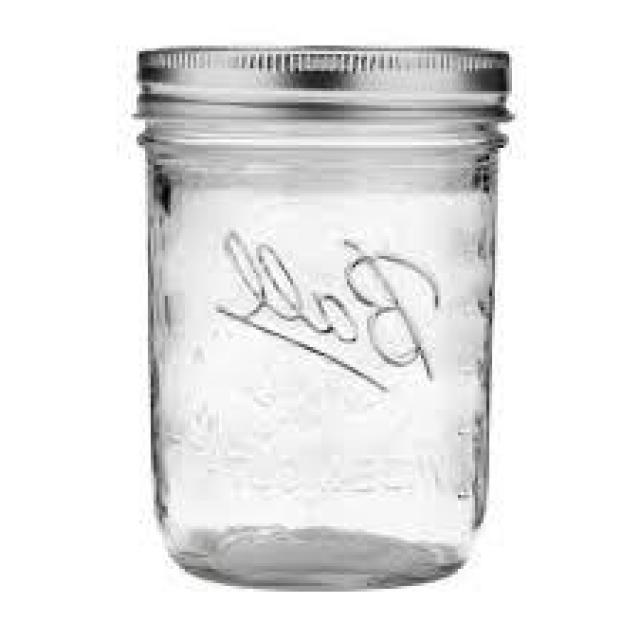glass: (128, 38, 521, 596)
